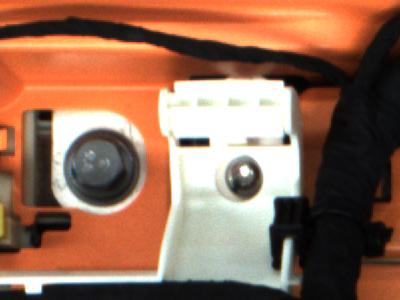nut_b: (59, 128, 143, 203)
